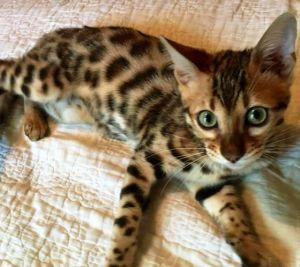bengal: (157, 10, 300, 177)
